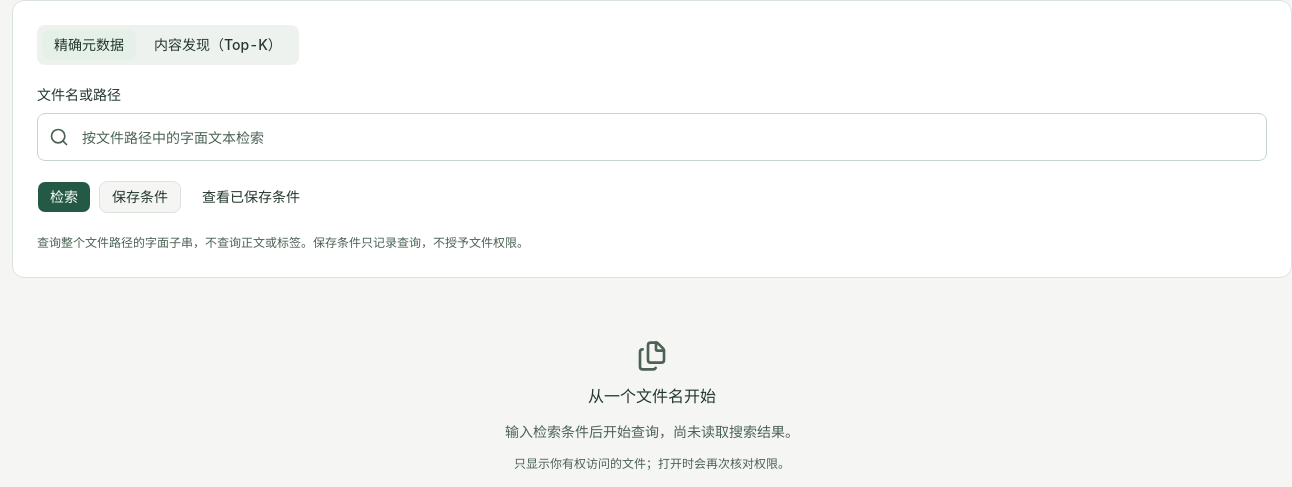
Test: does not report complete emptiness with coverage partial
In the search field named "检索条件": (652, 137) [37,113,1267,161], type "fixture"
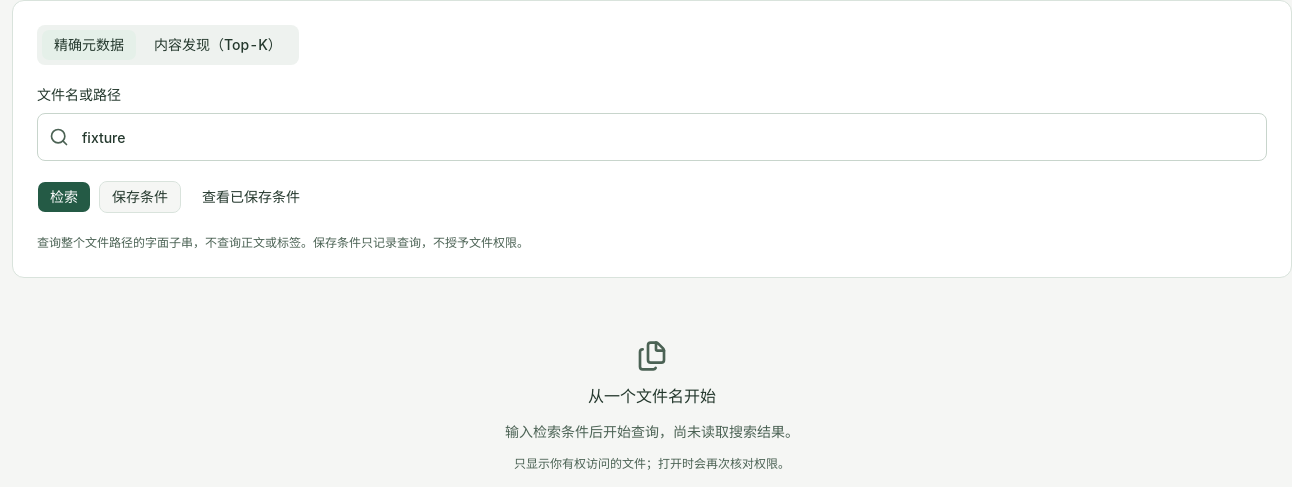
Click the button "检索": (64, 197) [37,181,91,213]
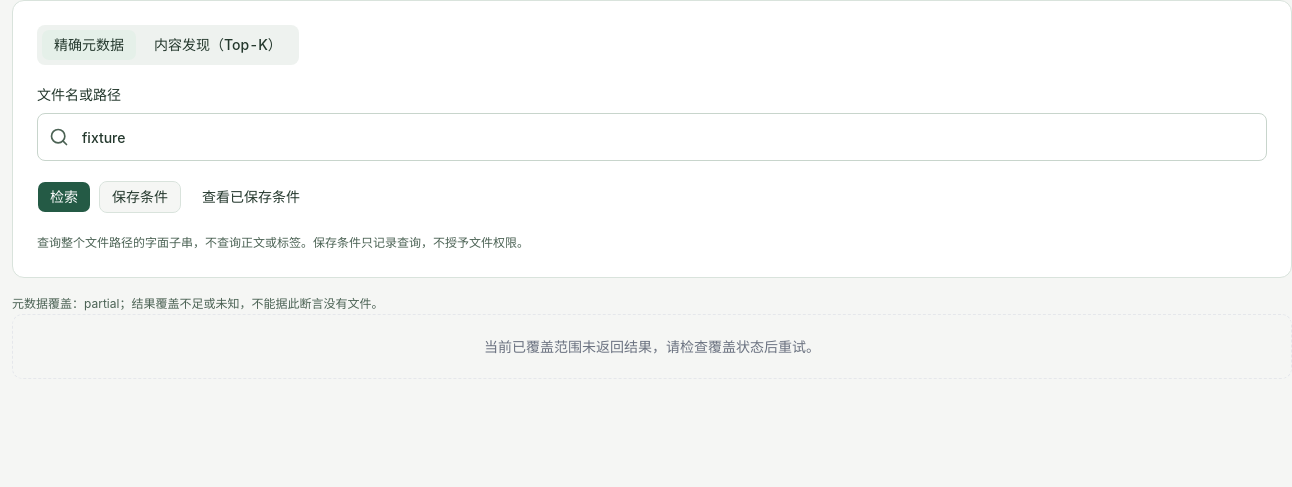
Now the message shows "当前已覆盖范围未返回结果", box [484,338,820,355]
Now the text "元数据覆盖：partial；结果覆盖不足或未知，不能据此断言没有文件。" is shown, box [12,296,383,311]
